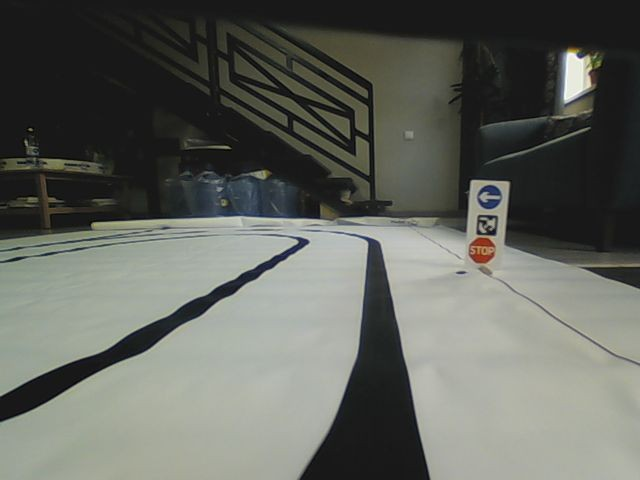Stop: (467, 237, 497, 266)
